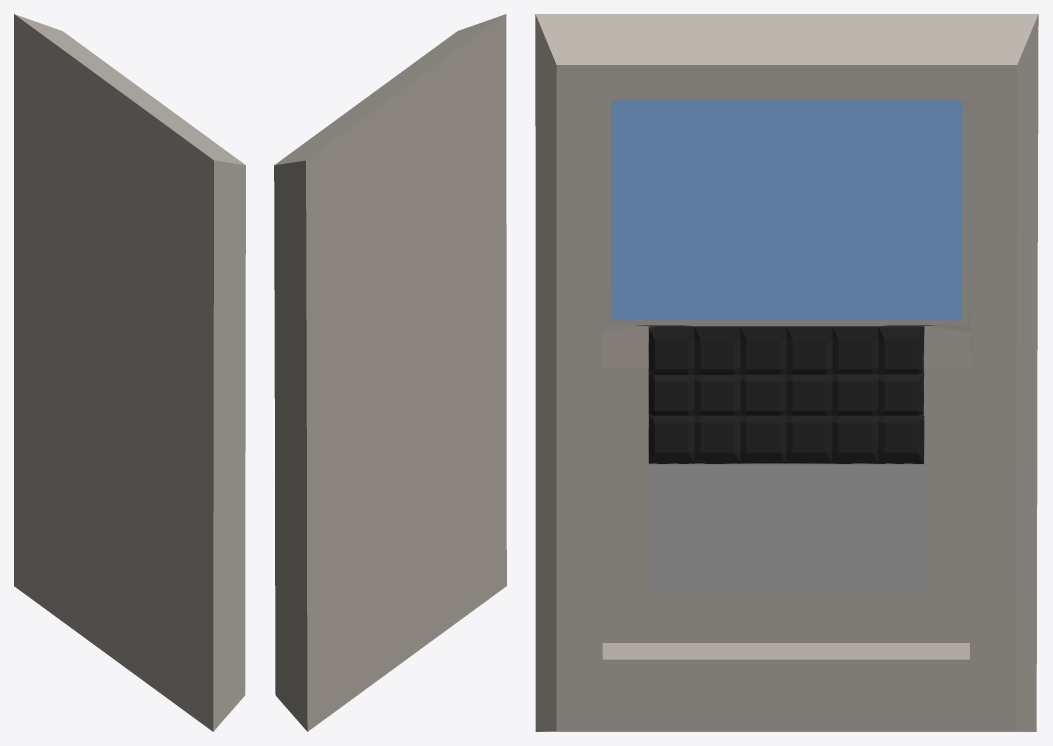
File: elev3.fbx
3 views of the same model, side by side, from view 1: azimuth 30°, elevation 25°; view 2: azimuth 150°, elevation 25°; view 3: azimuth 270°, elevation 25° (orthographic). The views are drawn at different scales.
Visible parts, largest first — view 1: Cube.002; view 2: Cube.002; view 3: Cube.002.
Part boxes in pixels (left/top/right/bottom): Cube.002: left=14, top=14, right=245, bottom=731; Cube.002: left=274, top=14, right=506, bottom=731; Cube.002: left=535, top=14, right=1038, bottom=731.
Size of the model in its own units: 7.65 by 92.23 by 58.53.
1 material, 1 textured.
